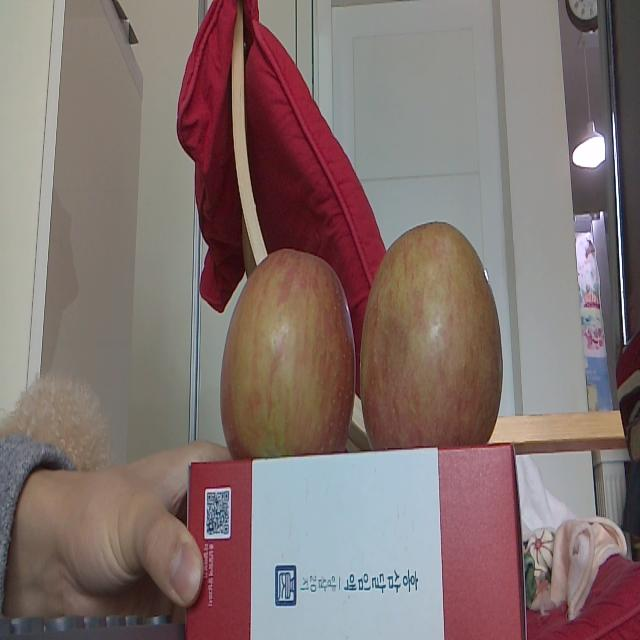apple: (360, 222, 503, 448), (221, 250, 355, 454)
